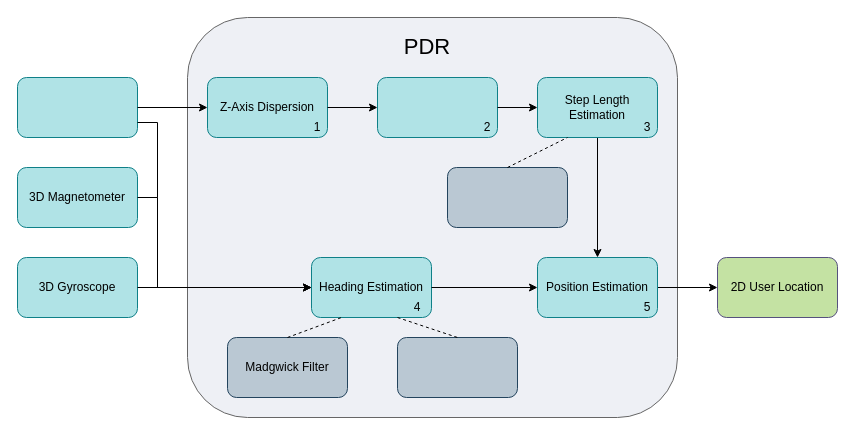
The diagram is 855 pixels wide and 435 high, and some of its shapes have lost their labels. The shapes that lost their labels are listed below. From the top down, each one's box as (x1, y1, x2, y2) in pixels, then its label:
(16, 76, 138, 138): 3D Accelerometer
(376, 76, 498, 138): Step Detection
(446, 166, 568, 228): Weinberg
(396, 336, 518, 398): Extended Kalman Filter
